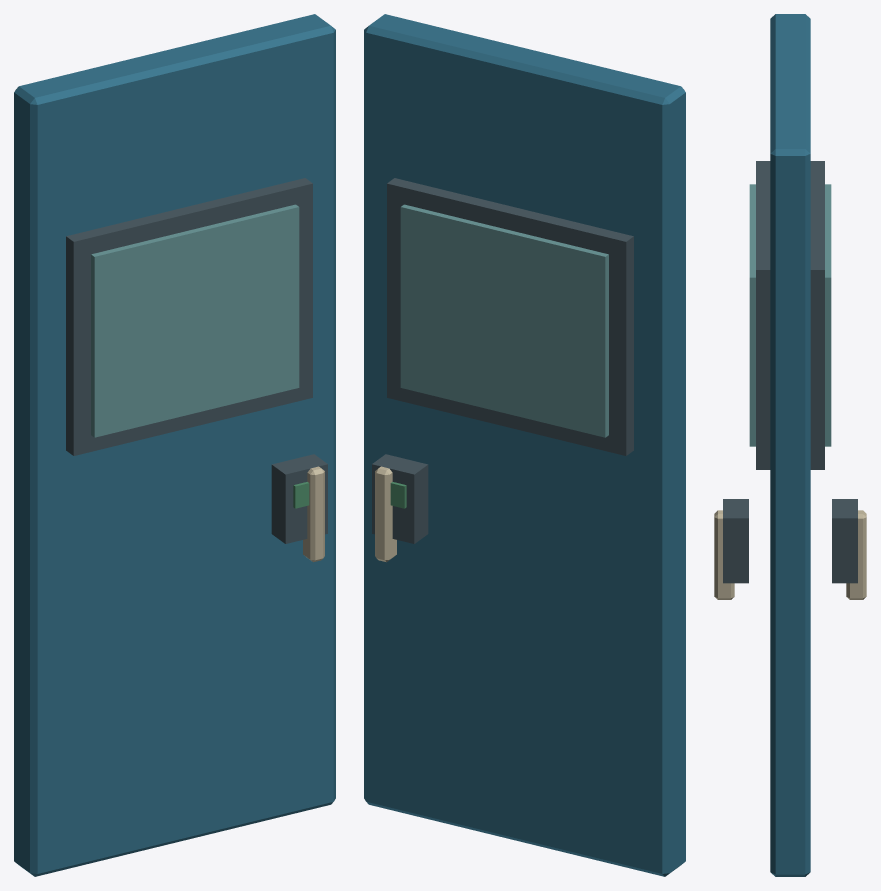
Rendered from door_steel_security.glb.
3 renders of one model, left to right at view 1: azimuth 30°, elevation 25°; view 2: azimuth 150°, elevation 25°; view 3: azimuth 270°, elevation 25°, orthographic. The views are drawn at different scales.
Visible parts, largest first — view 1: door_steel_security; view 2: door_steel_security; view 3: door_steel_security.
Boxes of the visible parts, bbox=[...] form: door_steel_security: bbox=[14, 14, 335, 876]; door_steel_security: bbox=[364, 14, 685, 876]; door_steel_security: bbox=[714, 14, 866, 876].
Size of the model in its own units: 1.15 by 2.8 by 0.53.
